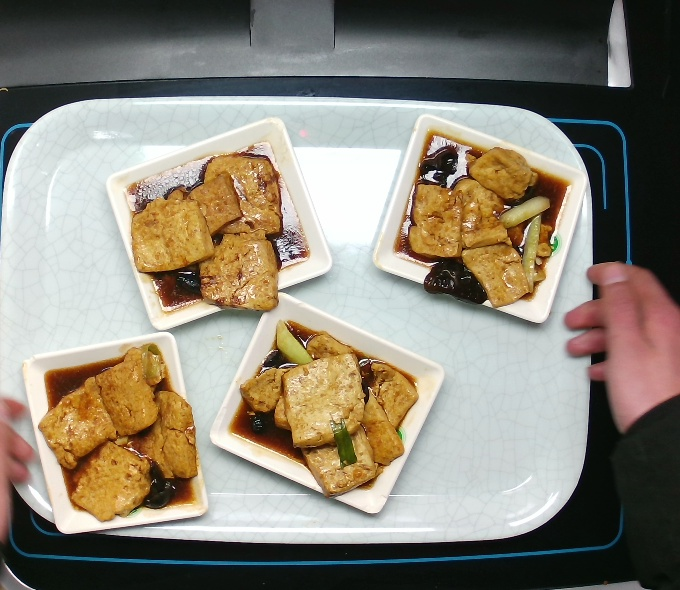wcq-JiaChangDouFu: (225, 315, 425, 501), (116, 134, 311, 317), (392, 125, 574, 312), (35, 339, 202, 526)
